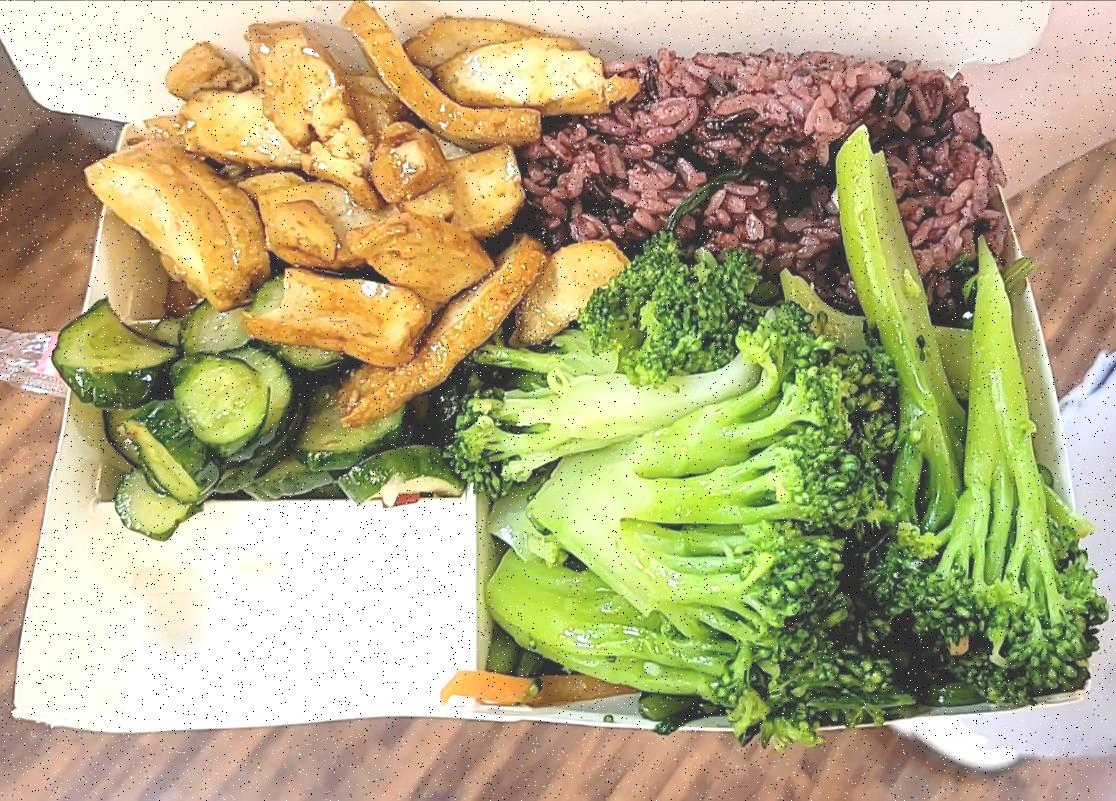big grilled chicken leg: (5, 48, 1096, 746)
braised fish: (502, 45, 1002, 319)
braised fish fillet: (474, 125, 1066, 714), (92, 2, 620, 411), (46, 302, 463, 531)
